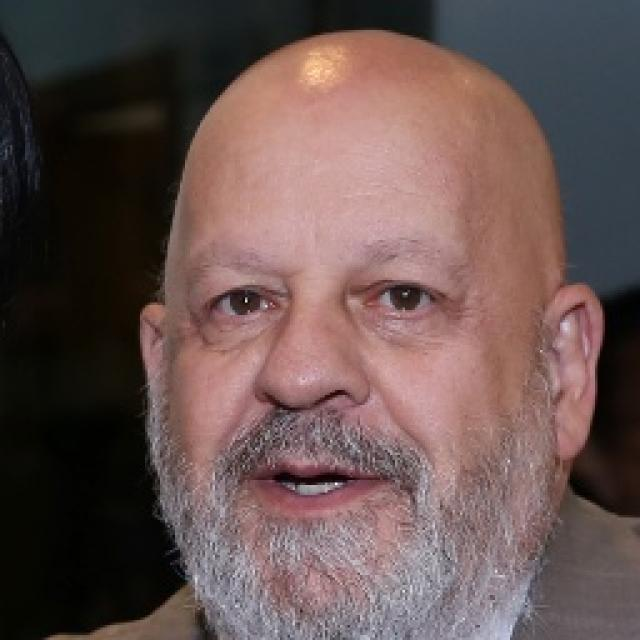earlobe: (548, 396, 596, 459)
eye: (360, 280, 447, 313), (207, 284, 279, 318)
nose: (254, 391, 368, 460)
wholeear: (546, 281, 603, 458), (138, 304, 164, 397)
